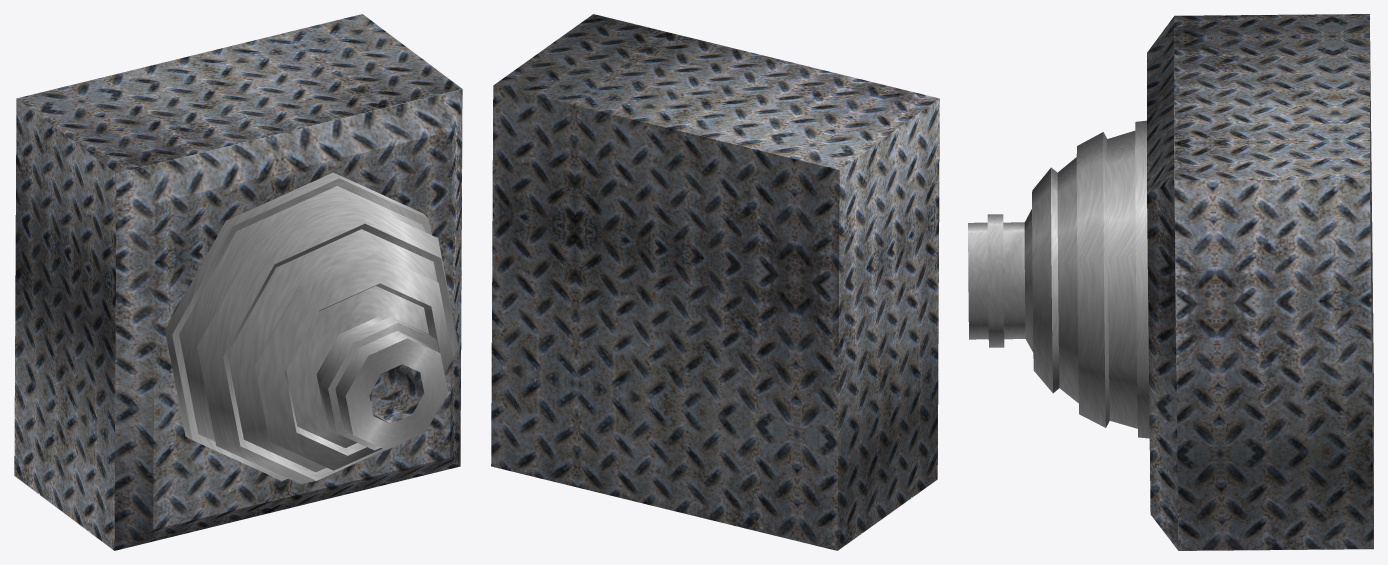
The model's file is Wall_Plugs01.FBX.
3 views of the same model, side by side, from view 1: azimuth 30°, elevation 25°; view 2: azimuth 150°, elevation 25°; view 3: azimuth 270°, elevation 25° (orthographic). The views are drawn at different scales.
Visible parts, largest first — view 1: Plug; view 2: Plug; view 3: Plug.
Boxes of the visible parts, x1=… form: Plug: x1=14, y1=14, x2=462, y2=550; Plug: x1=491, y1=14, x2=939, y2=550; Plug: x1=968, y1=14, x2=1373, y2=550.
Size of the model in its own units: 16.76 by 17.62 by 17.42.
